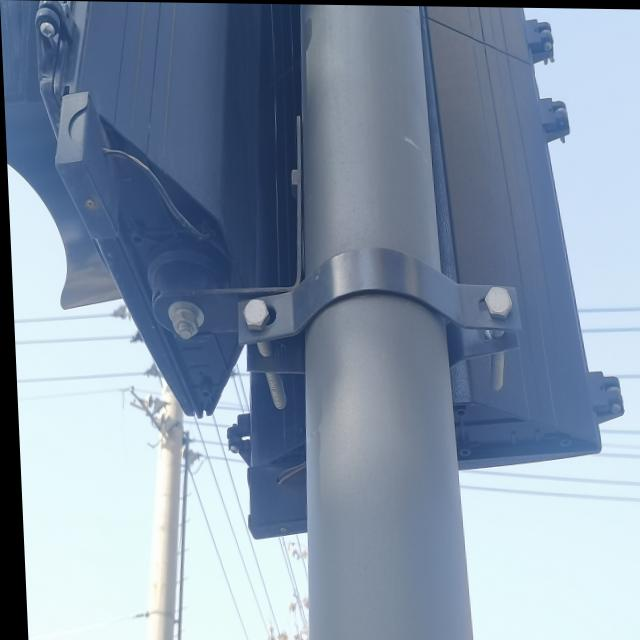Regular bolt: (240, 299, 269, 331), (482, 287, 511, 319), (170, 310, 197, 340), (290, 169, 298, 198)
